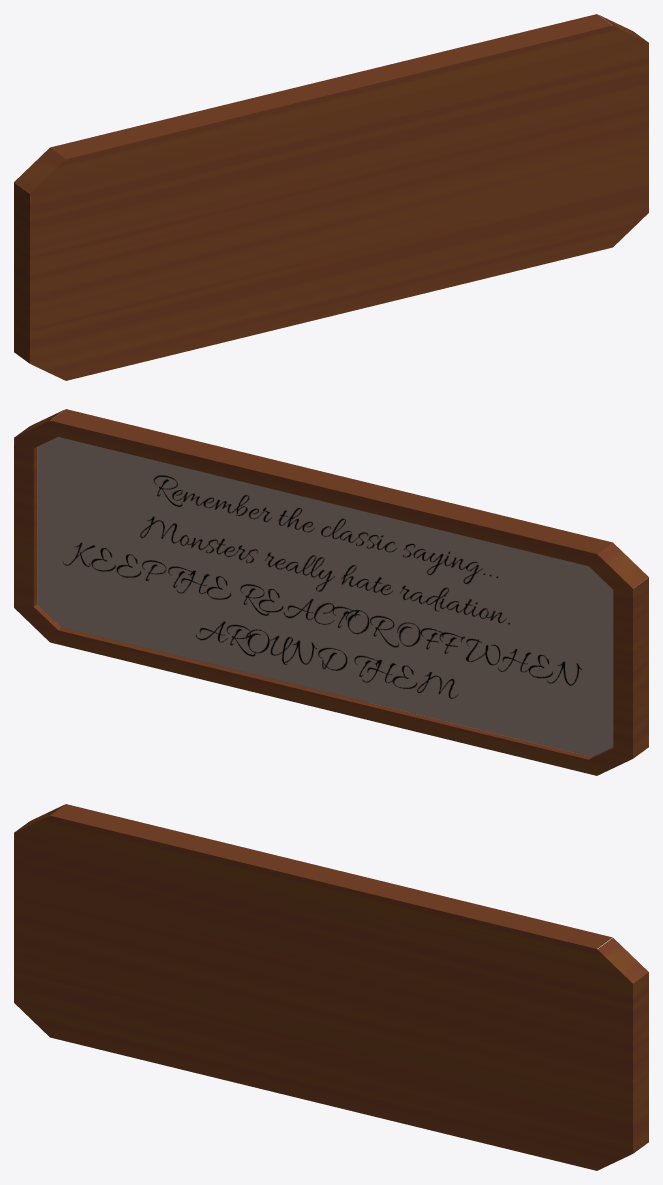
Rendered from signReactor.fbx.
The picture shows the model from 3 angles, top to bottom: view 1: azimuth 30°, elevation 25°; view 2: azimuth 150°, elevation 25°; view 3: azimuth 330°, elevation 25°; orthographic projection.
Parts seen in each view (by area): view 1: Cube; view 2: Cube; view 3: Cube.
Boxes of the visible parts, x1,y1,x2,y2 form: Cube: (14, 14, 648, 380); Cube: (14, 409, 648, 775); Cube: (14, 804, 648, 1170).
Size of the model in its own units: 670 by 229 by 29.8.
Materials: 1 (1 with a texture image).
